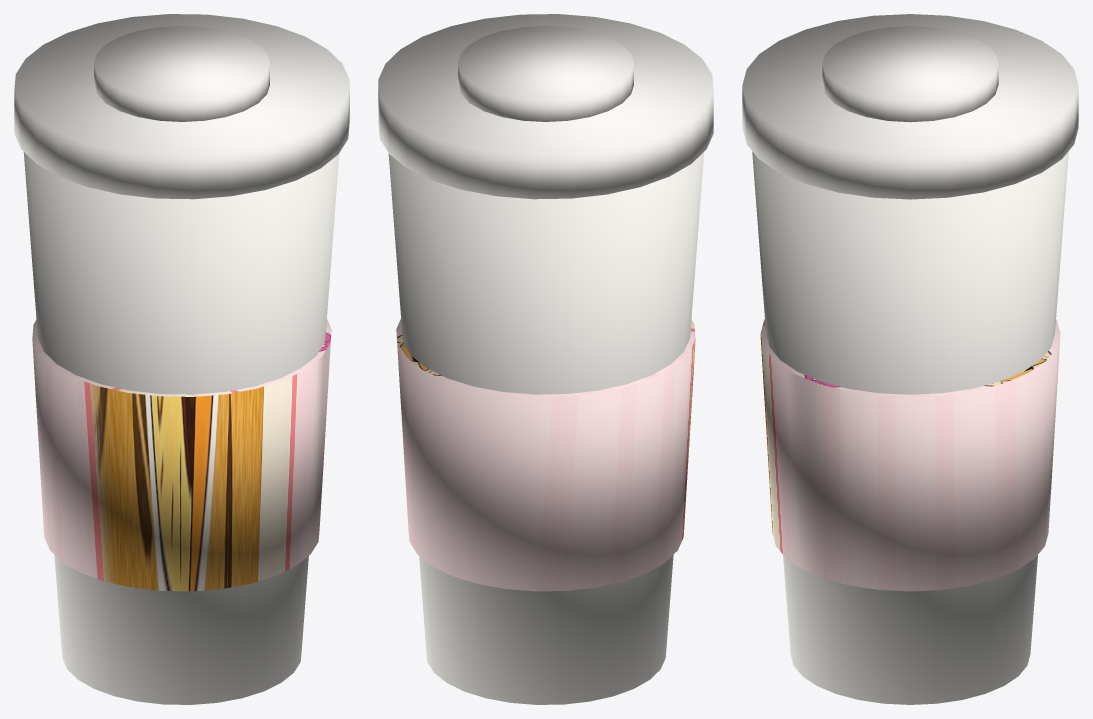
Rendered from prop_coffee.glb.
3 renders of one model, left to right at view 1: azimuth 30°, elevation 25°; view 2: azimuth 150°, elevation 25°; view 3: azimuth 270°, elevation 25°, orthographic.
Parts seen in each view (by area): view 1: prop_coffee; view 2: prop_coffee; view 3: prop_coffee.
Boxes of the visible parts, box(x1,y1,x2,y2) form: prop_coffee: box(14, 14, 349, 704); prop_coffee: box(378, 14, 713, 704); prop_coffee: box(742, 14, 1078, 704).
Size of the model in its own units: 0.084 by 0.163 by 0.084.
3 materials, 1 textured.
